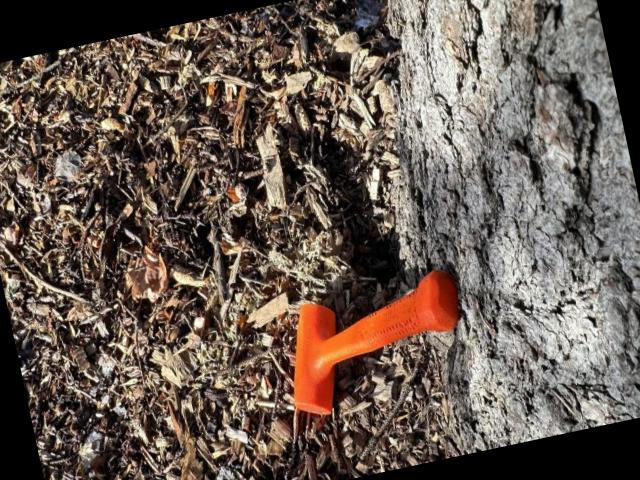hammer: (271, 267, 477, 423)
